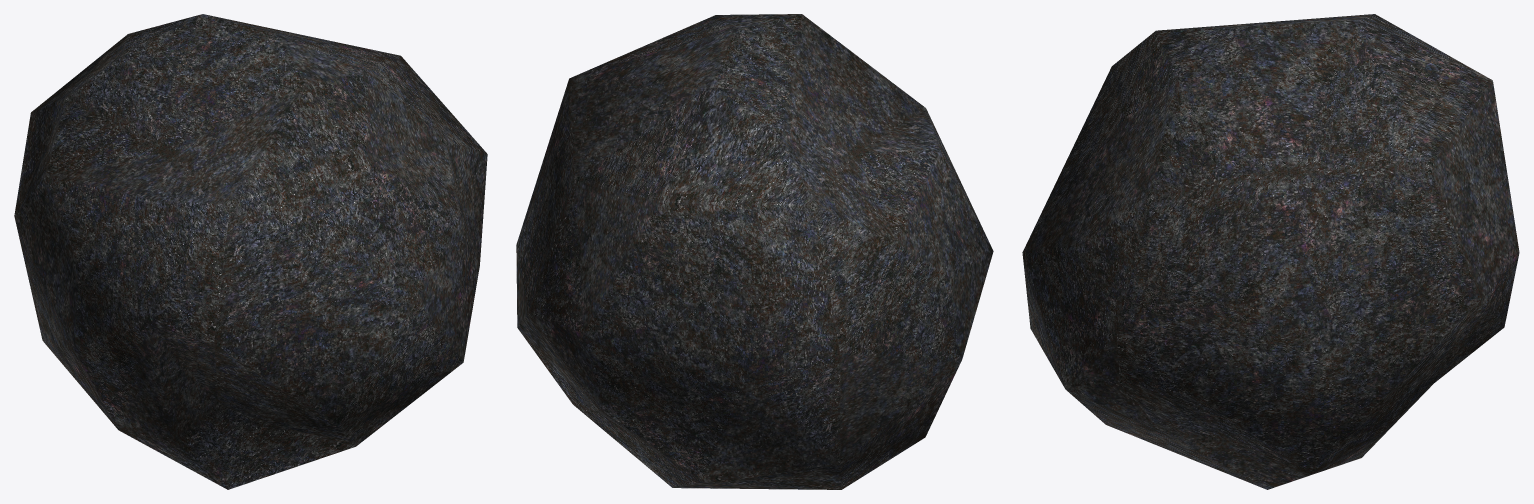
File: asteroid_metal_radial_s03_l1.fbx
3 views of the same model, side by side, from view 1: azimuth 30°, elevation 25°; view 2: azimuth 150°, elevation 25°; view 3: azimuth 270°, elevation 25° (orthographic). The views are drawn at different scales.
Parts seen in each view (by area): view 1: mesh_node; view 2: mesh_node; view 3: mesh_node.
Part boxes in pixels (left/top/right/bottom): mesh_node: left=14, top=14, right=487, bottom=489; mesh_node: left=516, top=14, right=993, bottom=489; mesh_node: left=1022, top=14, right=1519, bottom=489.
Size of the model in its own units: 5.09 by 4.99 by 5.17.
